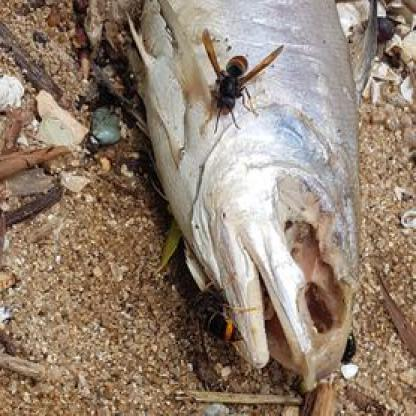Asian Hornet: (195, 29, 285, 132)
